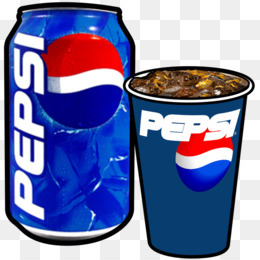pepsi: (3, 3, 131, 242)
